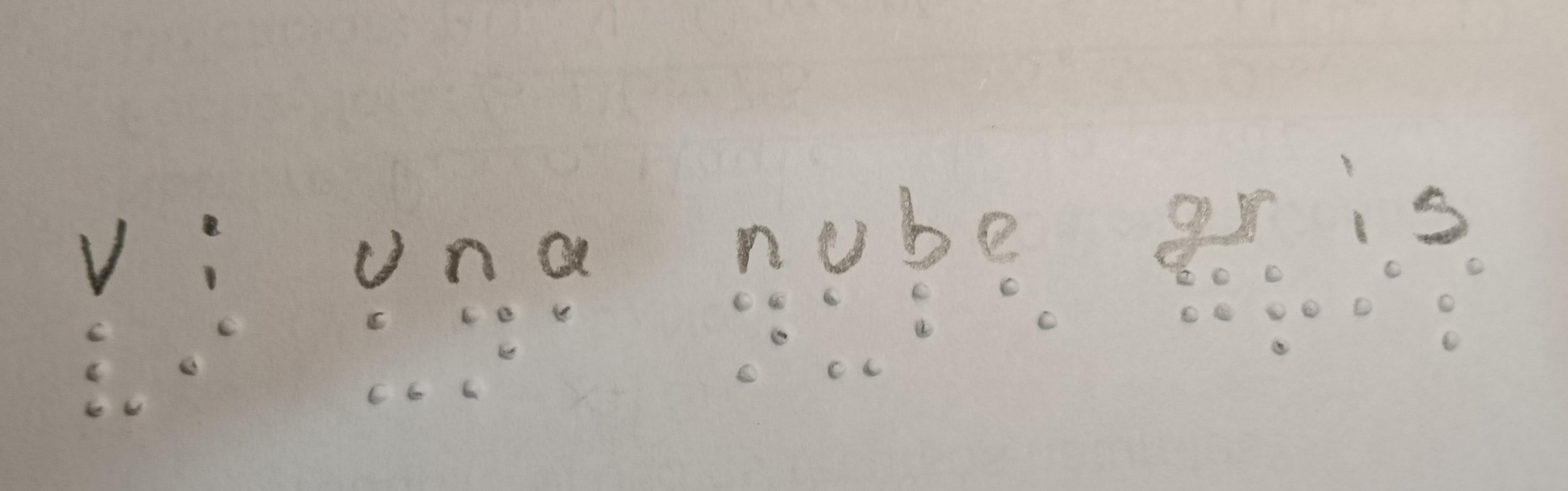a: (526, 288, 610, 341)
b: (891, 270, 949, 359)
e: (979, 270, 1073, 346)
g: (1159, 267, 1246, 346)
i: (166, 303, 254, 420), (1330, 258, 1411, 332)
n: (450, 301, 533, 409), (722, 285, 794, 398)
r: (1255, 263, 1330, 371)
s: (1411, 252, 1512, 366)
u: (326, 301, 436, 429), (799, 276, 891, 384)
v: (72, 305, 155, 427)
